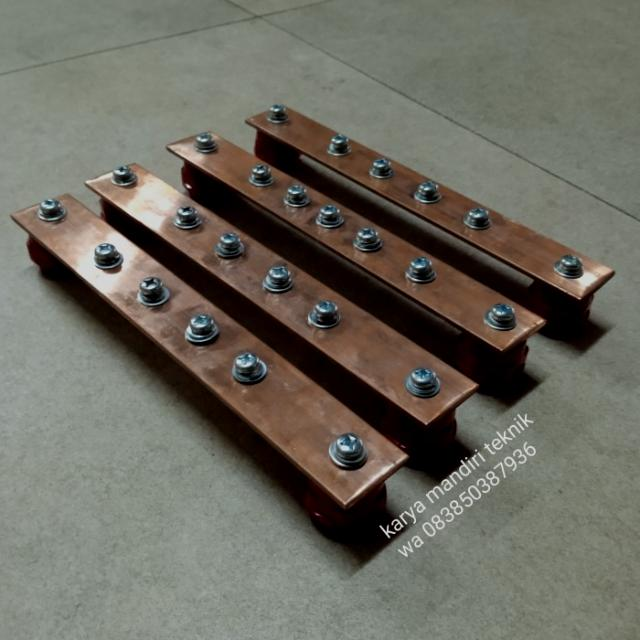busbar: (11, 102, 616, 533)
